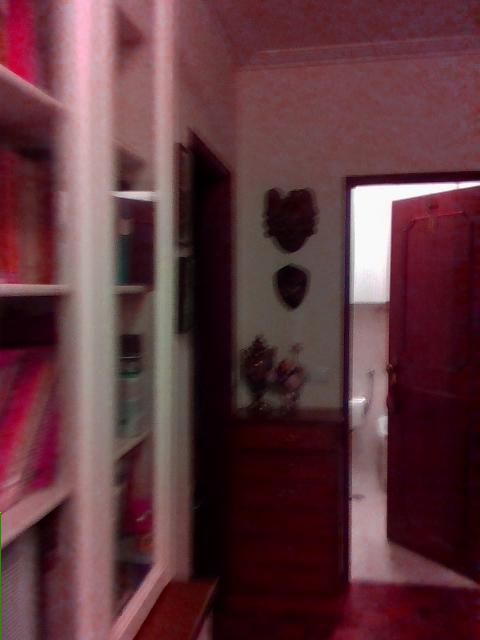semi_door: (343, 171, 479, 589)
